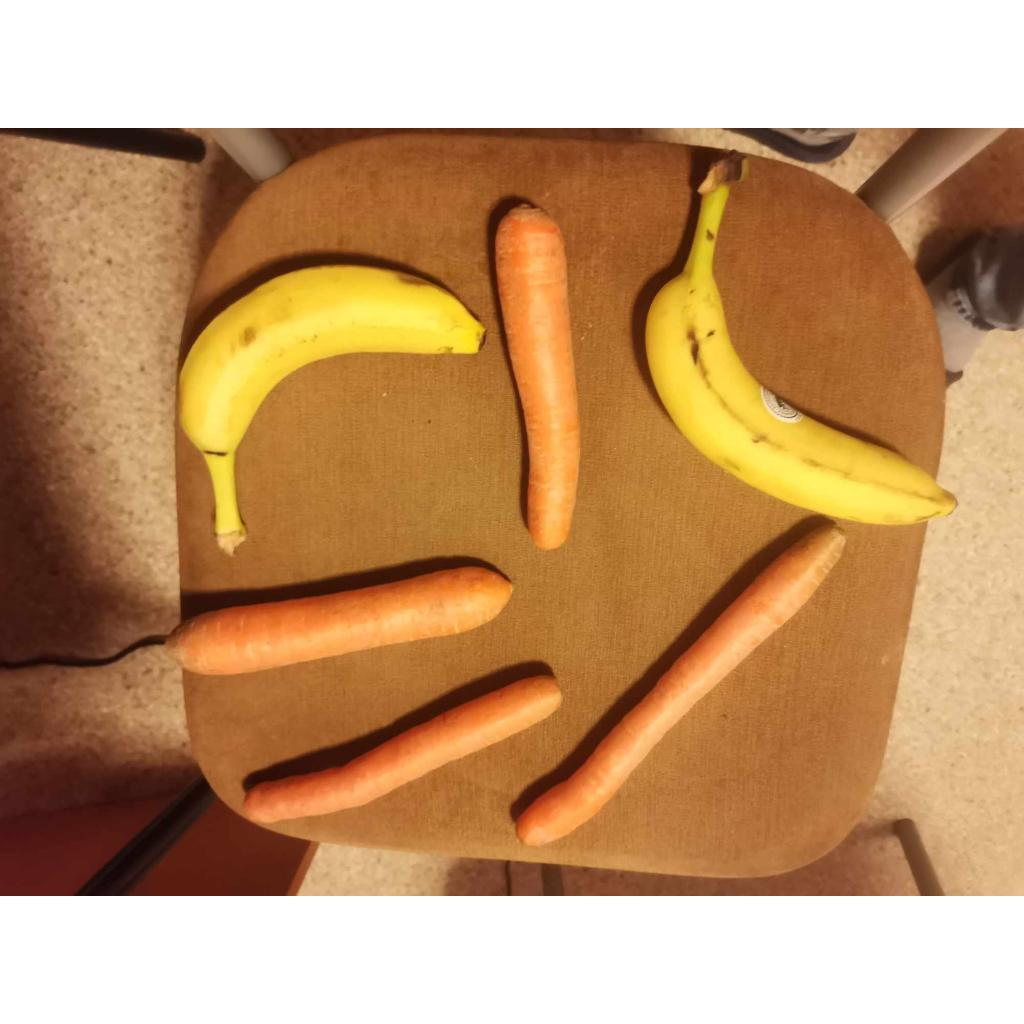banana: (640, 165, 955, 529), (175, 248, 489, 563)
carrot: (516, 525, 847, 848), (244, 672, 562, 824), (173, 567, 513, 675), (488, 200, 582, 551)
